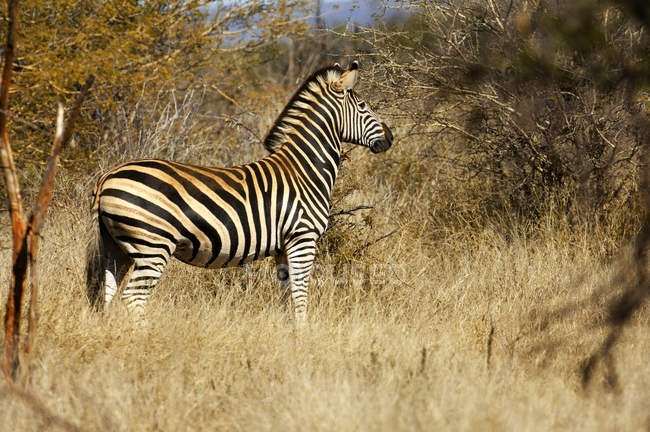zebra: (237, 194, 547, 432)
